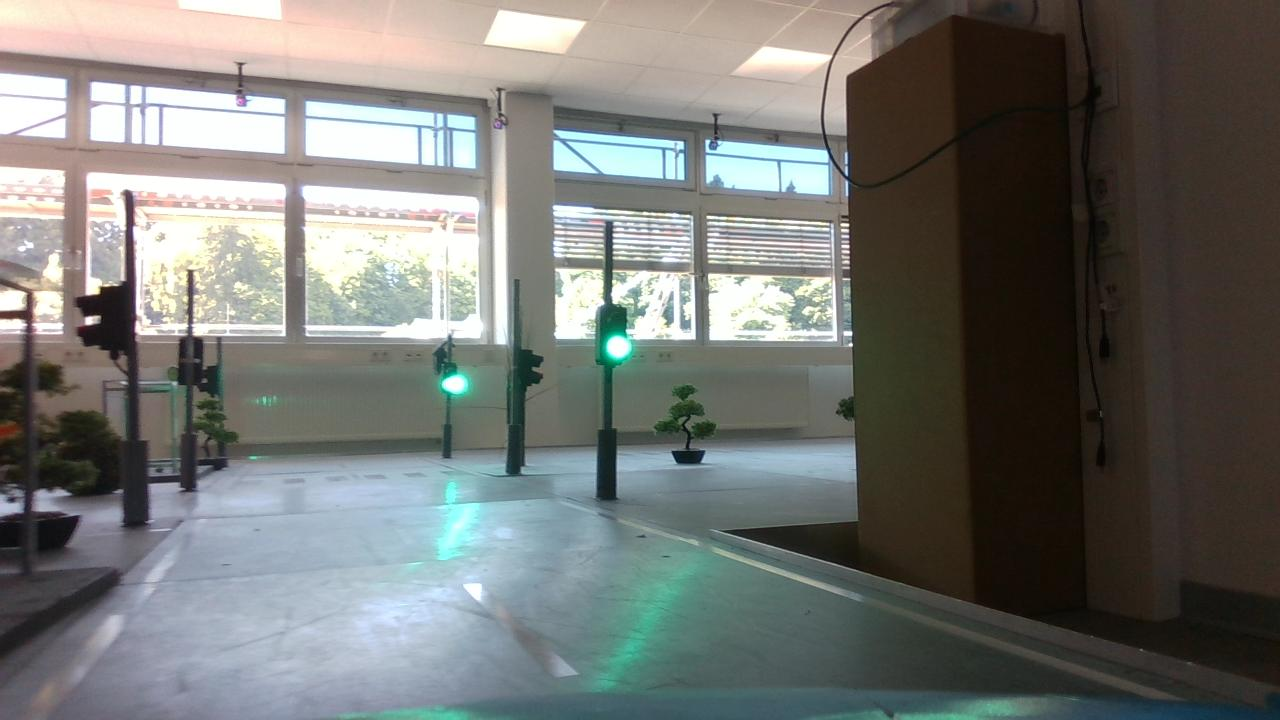traffic_light_green: (588, 295, 647, 381)
